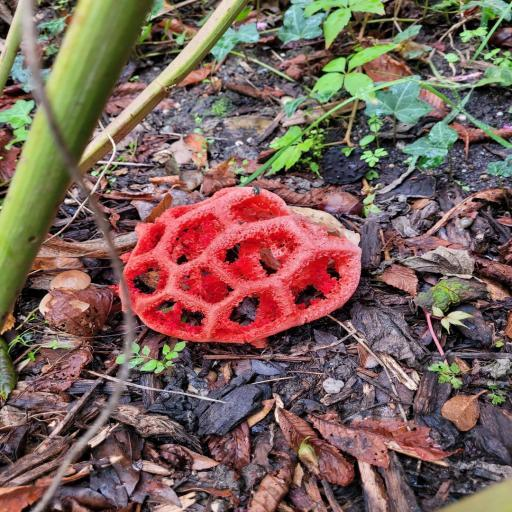mushroom: (125, 187, 358, 348)
